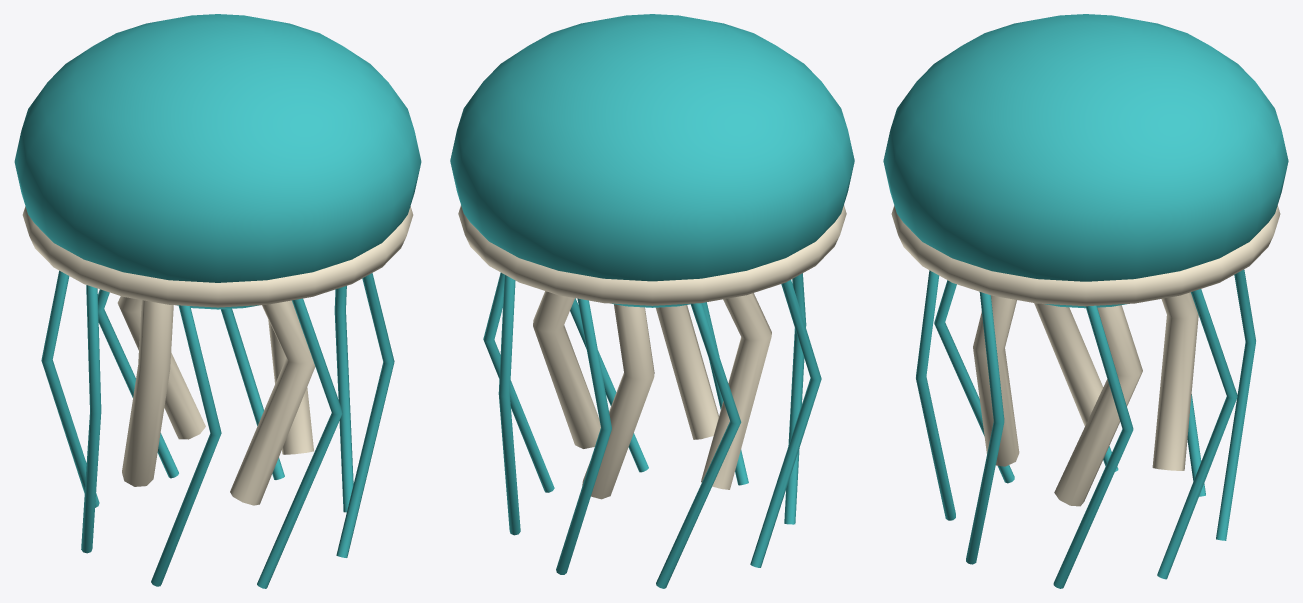
Rendered from r013_reef_jellyfish_role_jellyfish.glb.
3 renders of one model, left to right at view 1: azimuth 30°, elevation 25°; view 2: azimuth 150°, elevation 25°; view 3: azimuth 270°, elevation 25°, orthographic.
Visible parts, largest first — view 1: r013_reef_jellyfish_role_jellyfish.001; view 2: r013_reef_jellyfish_role_jellyfish.001; view 3: r013_reef_jellyfish_role_jellyfish.001.
Boxes of the visible parts, <box> form: r013_reef_jellyfish_role_jellyfish.001: <box>14,14,421,588</box>; r013_reef_jellyfish_role_jellyfish.001: <box>450,14,854,588</box>; r013_reef_jellyfish_role_jellyfish.001: <box>883,14,1288,588</box>.
Size of the model in its own units: 2.5 by 3.33 by 2.5.
